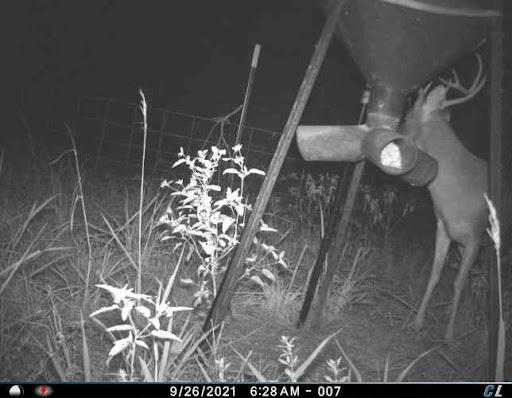Deer: (402, 43, 512, 354)
